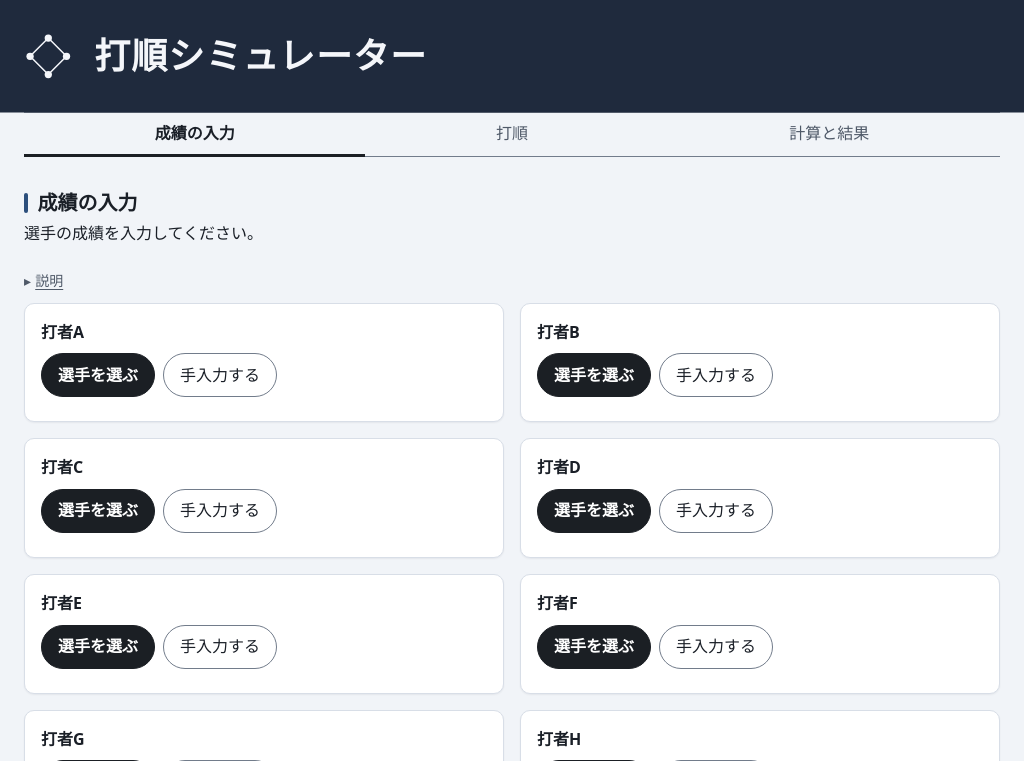
Test: プリセットの選択ダイアログ › 選手の一覧は API の値を表示する（率は .xxx の形。OPS も API の値）
The width and height of the screenshot is (1024, 761).
Click the button with aria-label "打者Aの選手を選ぶ" at (98, 375), box 41,353 -> 155,397
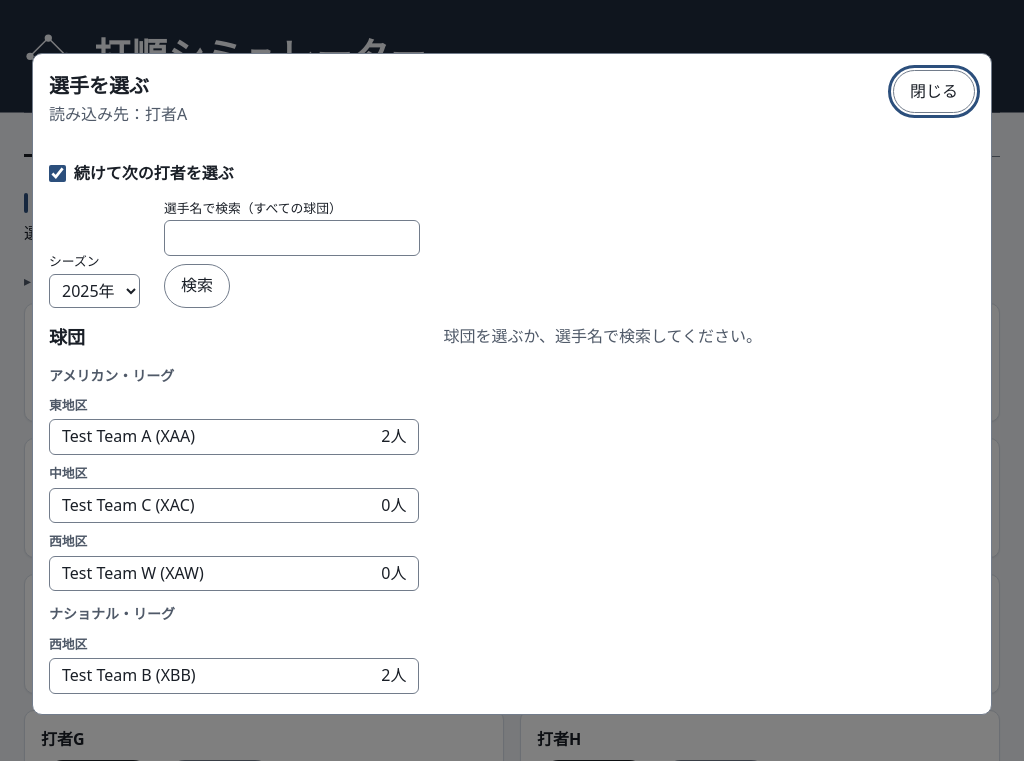
Click the button "Test Team A (XAA) 2人" at (129, 436), box 49,419 -> 419,455
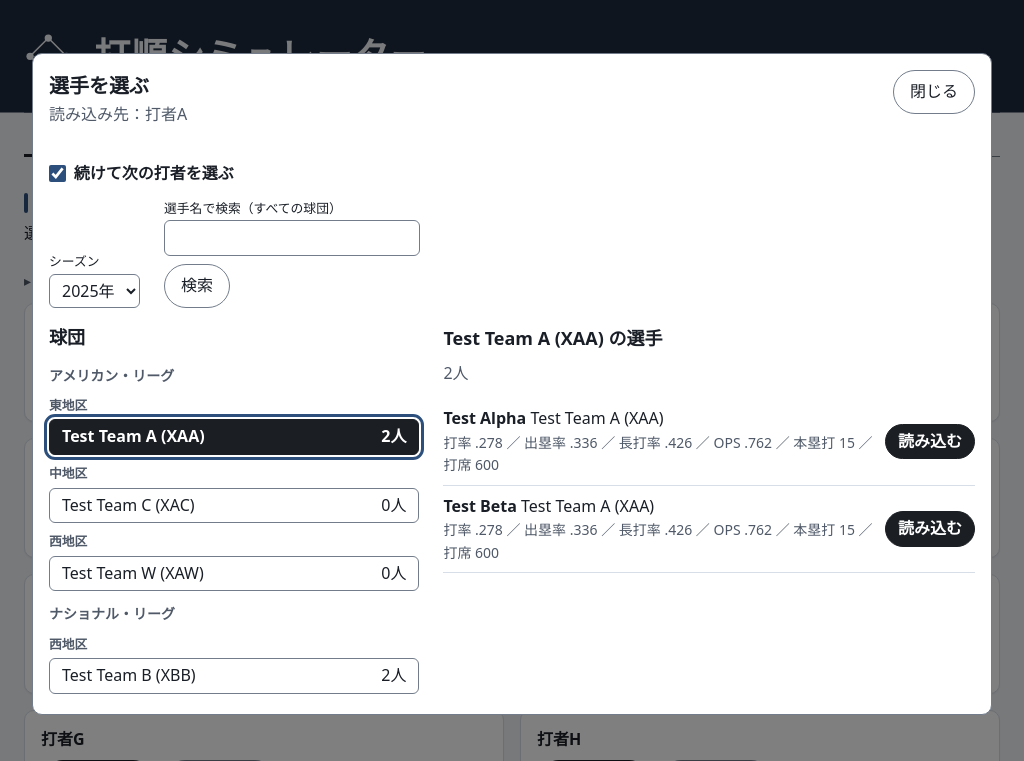
expect the text "打率 .278 ／ 出塁率 .336 ／ 長打率 .426 ／ OPS .762 ／ 本塁打 15 ／ 打席 600" is shown 2 times: met, box 443,432 -> 873,477; 443,519 -> 873,564
